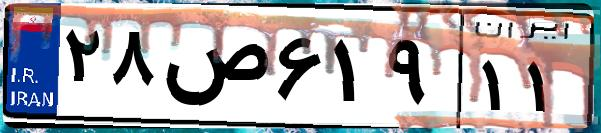1: (330, 28, 385, 110), (475, 38, 525, 113), (525, 38, 570, 115)
2: (57, 26, 110, 100)
6: (270, 28, 330, 110)
8: (110, 28, 158, 98)
9: (385, 28, 445, 110)
ص: (158, 20, 270, 120)
